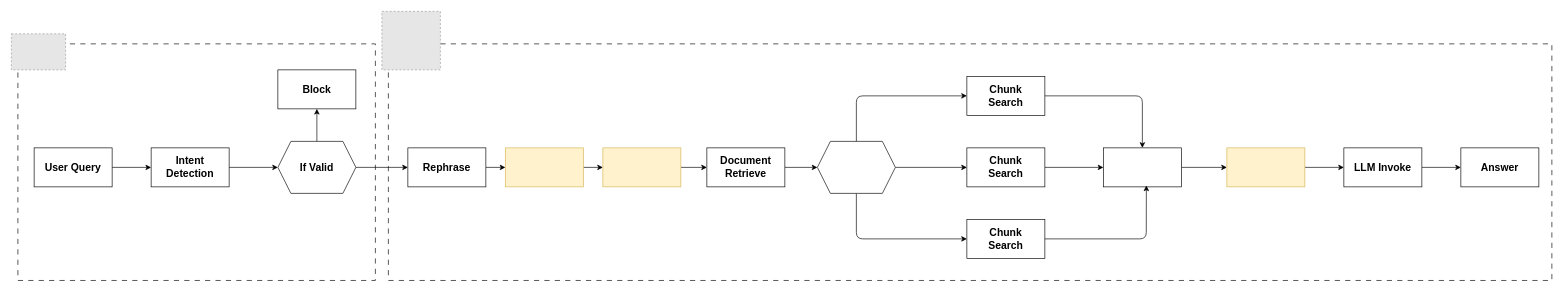
Image size: 1563x292. Some labels were removed from this diagram. Grey dashed boxes stand in for pictures. The centre of each missing label's shape, as x and y in pixels:
"Chunk Selection" belongs at pixel 1142 167.
"Data Analysis Prompt" belongs at pixel 1265 167.
"Diagnosis" belongs at pixel 641 167.
"For each document" belongs at pixel 856 167.
"Vitals Statistic" belongs at pixel 544 167.
